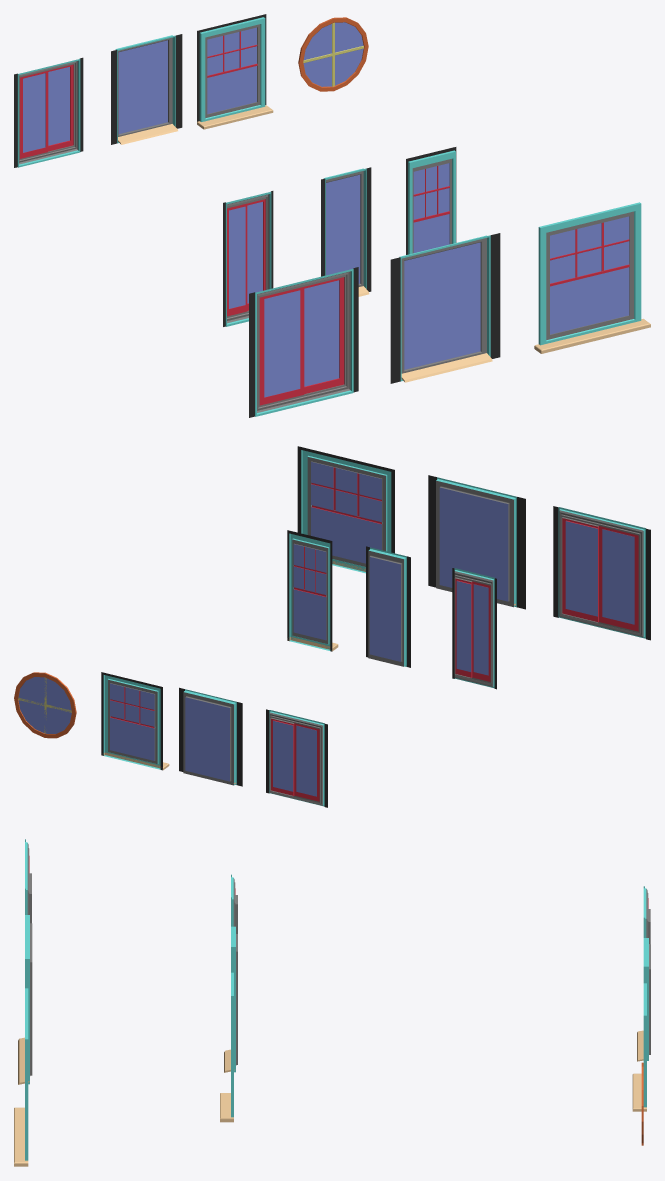
Rendered from Windows.fbx.
3 renders of one model, top to bottom at view 1: azimuth 30°, elevation 25°; view 2: azimuth 150°, elevation 25°; view 3: azimuth 270°, elevation 25°, orthographic. The views are drawn at different scales.
Visible parts, largest first — view 1: Window_3.002, Wndow_2.002, Window_1.002, Window_1, Window_3, Wndow_2, Wndow_2.001, Window_3.001, Window_1.001, Window_circle; view 2: Wndow_2.002, Window_3.002, Window_1.002, Window_3, Window_1, Wndow_2, Window_1.001, Window_3.001, Wndow_2.001, Window_circle; view 3: Window_1.002, Window_3.002, Window_1, Window_3, Window_3.001, Window_1.001.
Part boxes in pixels (bbox=[...]): Window_3.002: bbox=[390, 233, 500, 383]; Wndow_2.002: bbox=[249, 267, 358, 417]; Window_1.002: bbox=[534, 202, 650, 353]; Window_1: bbox=[197, 14, 273, 129]; Window_3: bbox=[111, 34, 182, 144]; Wndow_2: bbox=[14, 57, 83, 167]; Wndow_2.001: bbox=[223, 191, 273, 326]; Window_3.001: bbox=[321, 167, 371, 296]; Window_1.001: bbox=[406, 147, 456, 254]; Window_circle: bbox=[298, 17, 368, 91]; Wndow_2.002: bbox=[553, 506, 650, 640]; Window_3.002: bbox=[428, 475, 525, 609]; Window_1.002: bbox=[297, 446, 394, 573]; Window_3: bbox=[179, 687, 242, 786]; Window_1: bbox=[101, 672, 169, 770]; Wndow_2: bbox=[266, 709, 327, 807]; Window_1.001: bbox=[287, 530, 338, 651]; Window_3.001: bbox=[366, 546, 410, 667]; Wndow_2.001: bbox=[452, 568, 496, 689]; Window_circle: bbox=[14, 672, 76, 738]; Window_1.002: bbox=[14, 988, 28, 1166]; Window_3.002: bbox=[18, 915, 32, 1084]; Window_1: bbox=[632, 983, 646, 1111]; Window_3: bbox=[637, 938, 650, 1061]; Window_3.001: bbox=[224, 926, 237, 1072]; Window_1.001: bbox=[220, 972, 233, 1122].
Size of the model in its own units: 456 by 132 by 584.
